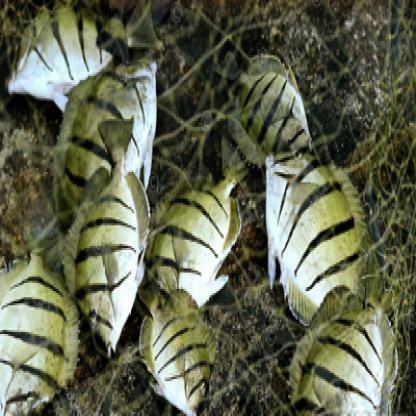Bio: (59, 113, 151, 362), (264, 150, 377, 335), (146, 134, 247, 310), (2, 2, 164, 111), (0, 227, 78, 414), (212, 47, 313, 170), (138, 276, 218, 412)
